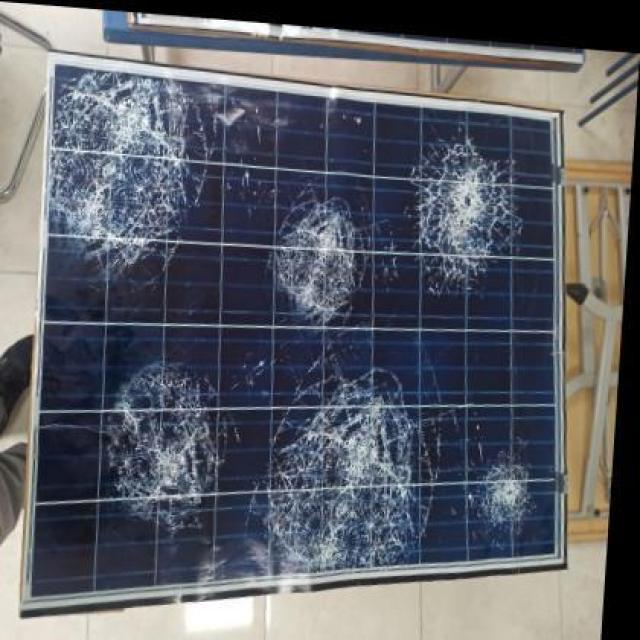cracked: (32, 52, 561, 586)
